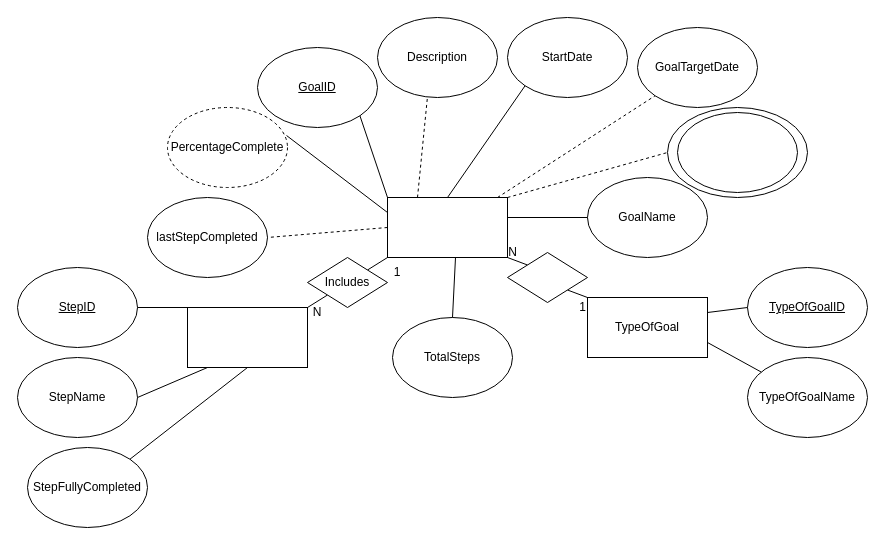
Image size: 885x545. Some labels were removed from this diagram. The centre of each missing label's shape, as x and y in pixels:
Belongs to: the point at 547,277
Goal: the point at 447,227
PriorityLevel: the point at 737,152
Step: the point at 247,337
